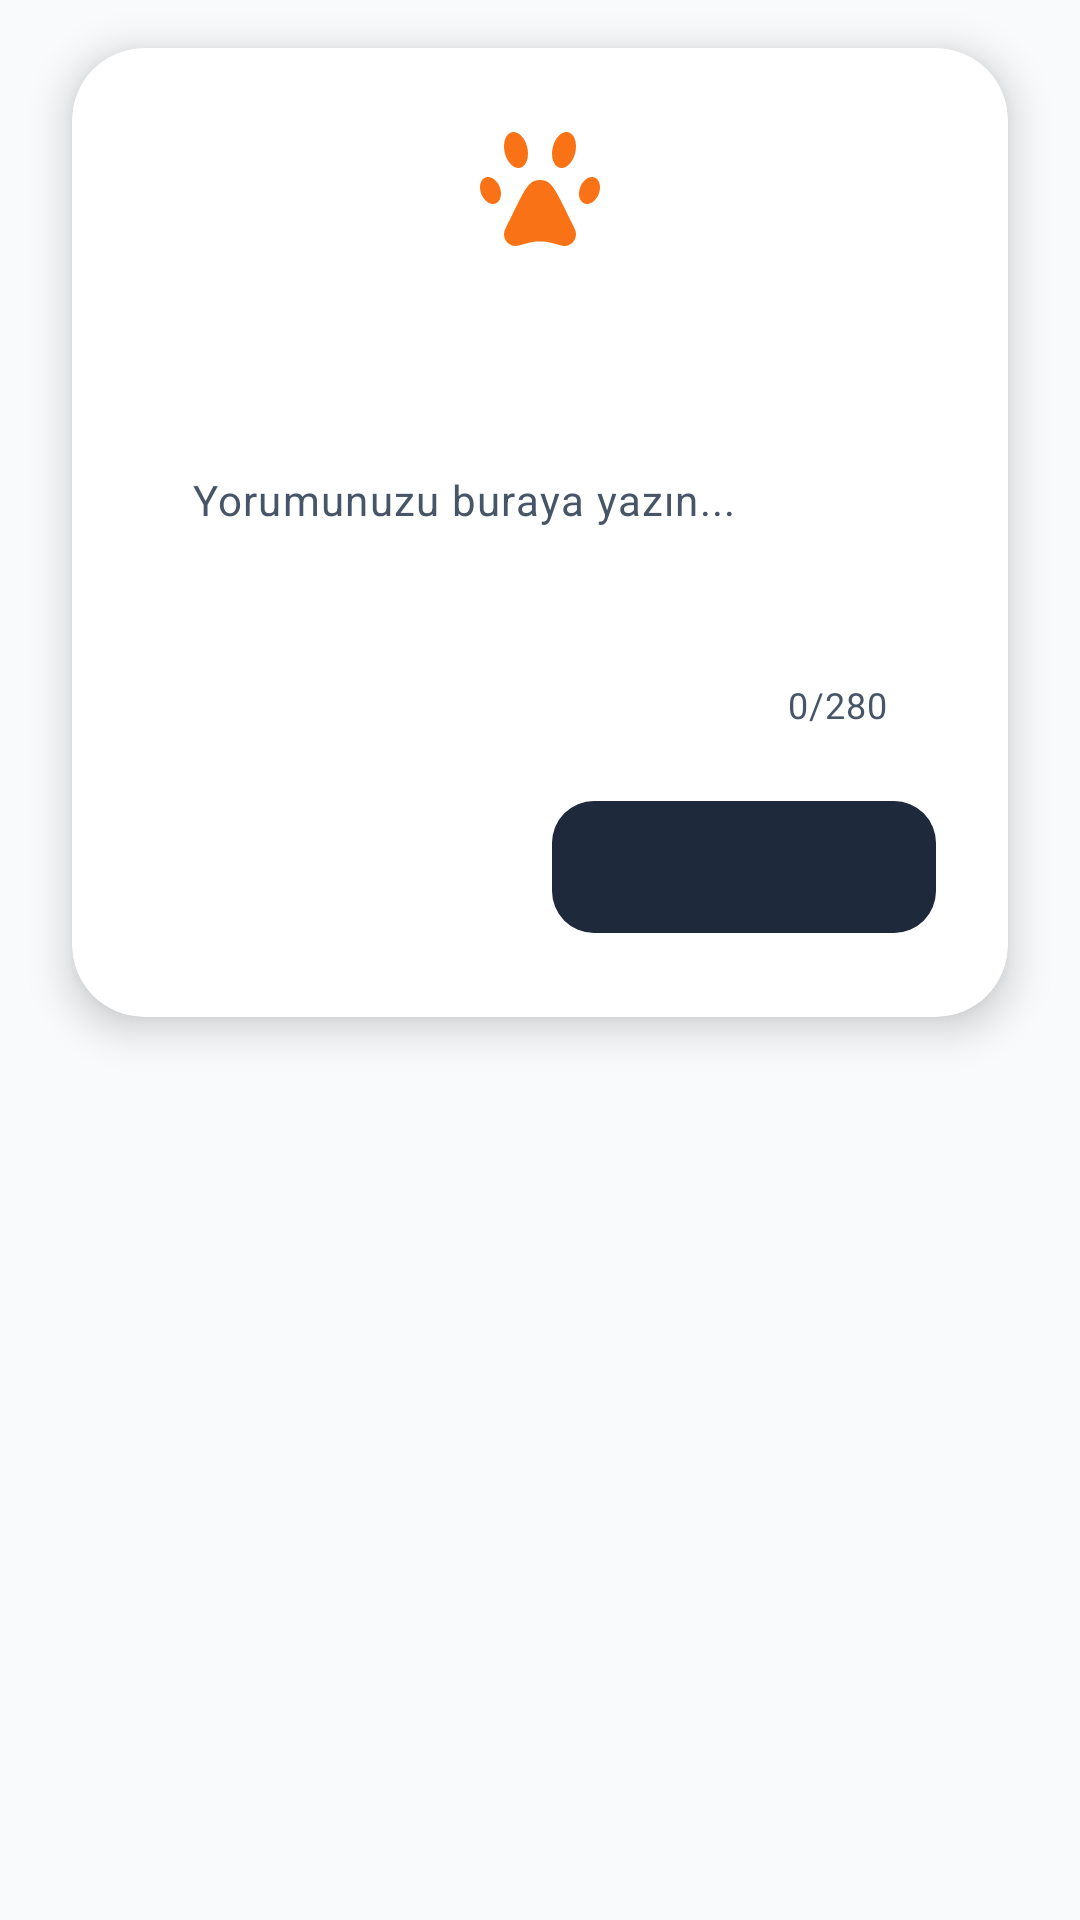

Locate icon controls on the screen. Image size 1080×1920, boxes as (x1, y1, x2, y2).
patidolu: (480, 132, 600, 246)
